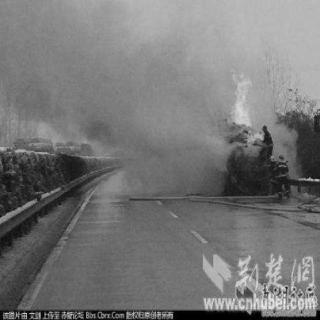Fire: (214, 60, 290, 166)
